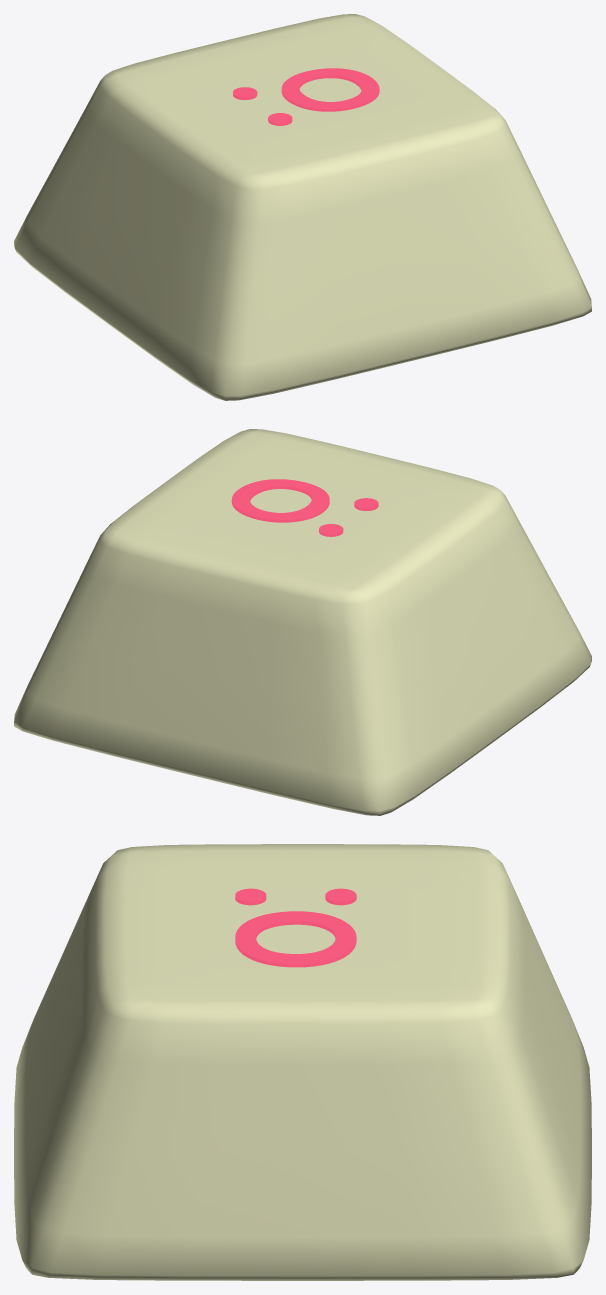
File: keyAHUI.glb
3 renders of one model, top to bottom at view 1: azimuth 30°, elevation 25°; view 2: azimuth 150°, elevation 25°; view 3: azimuth 270°, elevation 25°, orthographic. The views are drawn at different scales.
Parts seen in each view (by area): view 1: Cube, Text; view 2: Cube, Text; view 3: Cube, Text.
Boxes of the visible parts, bbox=[...] form: Cube: bbox=[14, 14, 591, 400]; Text: bbox=[233, 68, 379, 125]; Cube: bbox=[14, 429, 591, 815]; Text: bbox=[231, 479, 378, 536]; Cube: bbox=[14, 844, 591, 1280]; Text: bbox=[235, 888, 356, 967].
Size of the model in its own units: 1.97 by 0.9057 by 1.97.
